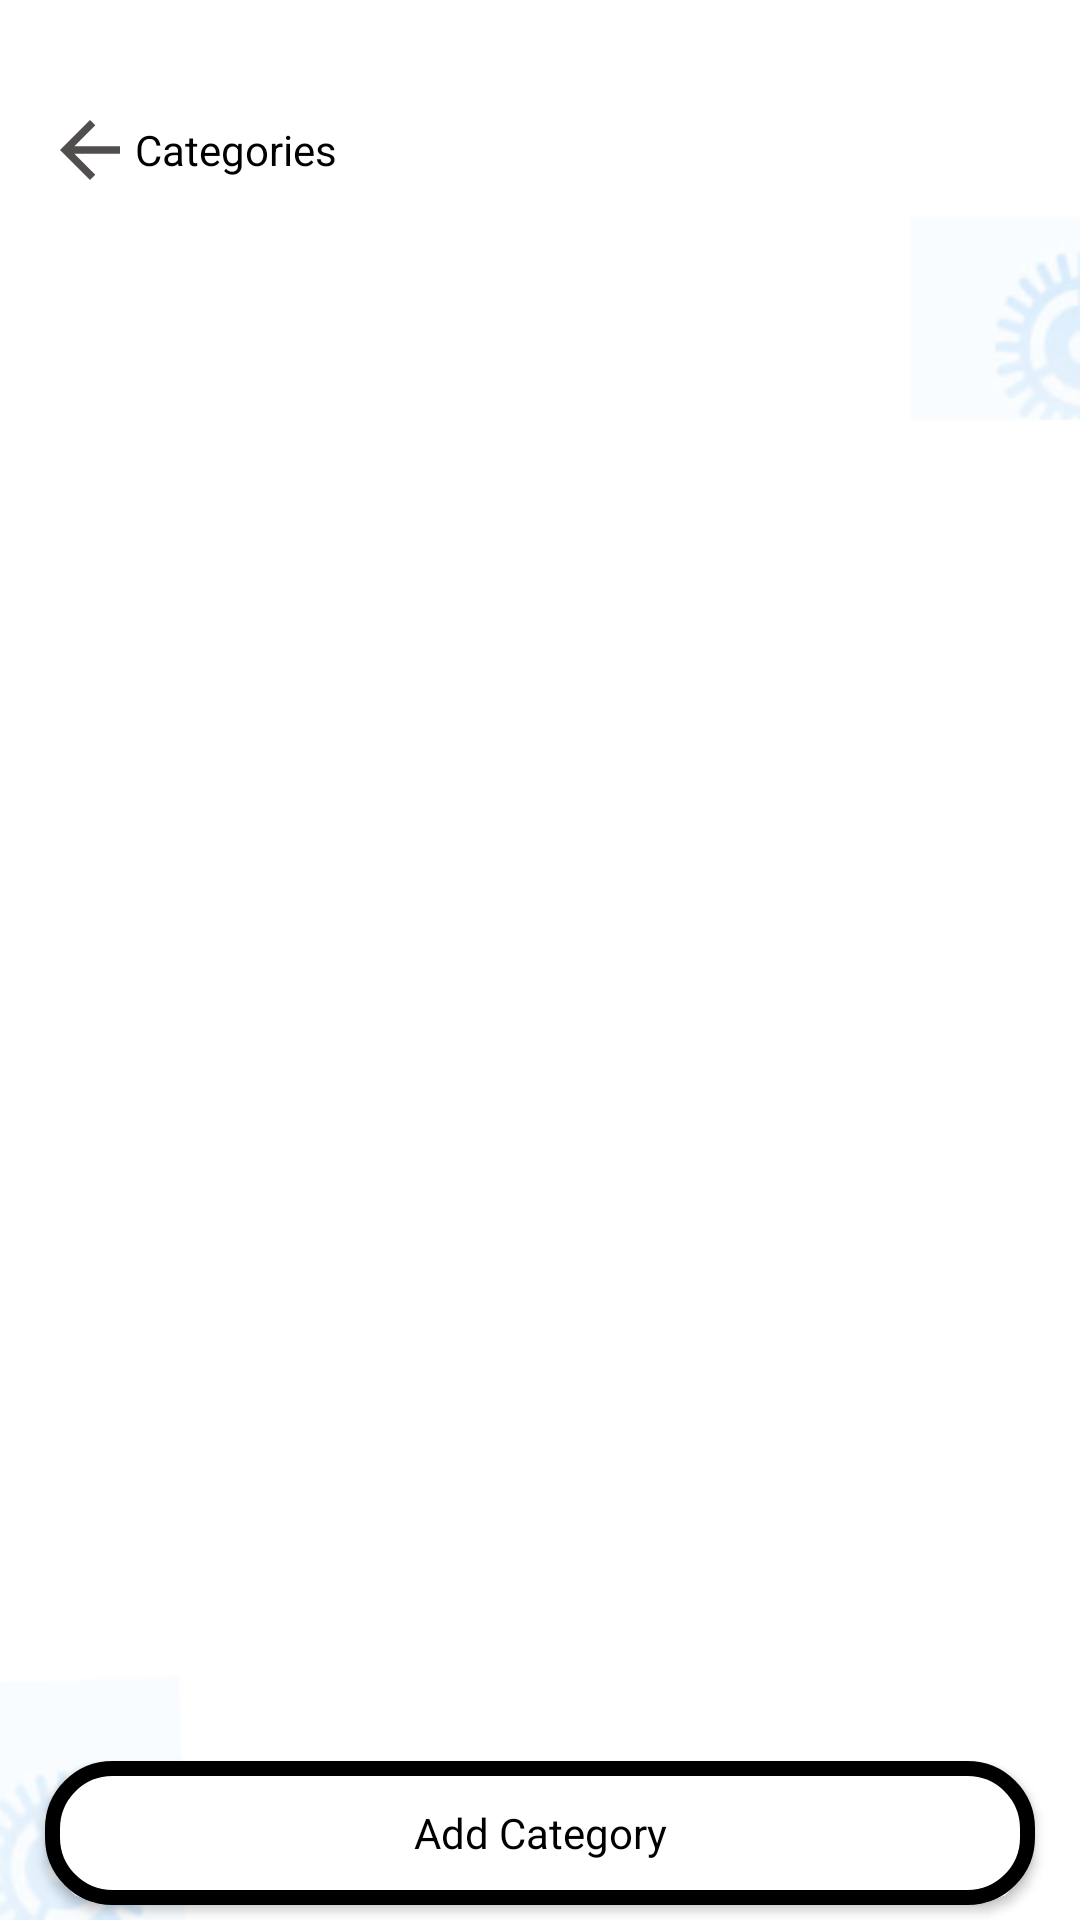

Screen size 1080px×1920px. Icon name, then its box in pixels as (x1, y1, x2, y2):
arrow back: (60, 120, 120, 180)
